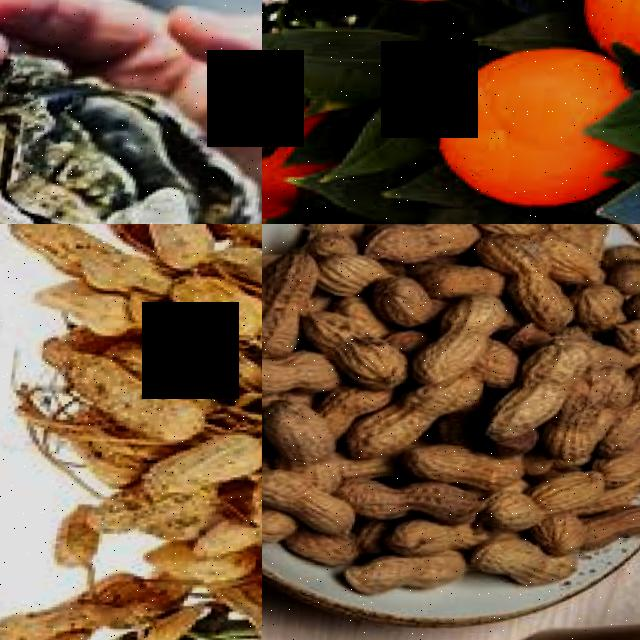orange: (439, 42, 640, 211)
peanuts: (85, 486, 218, 542), (148, 431, 262, 495), (262, 469, 367, 535), (262, 245, 322, 356), (346, 551, 472, 600), (262, 399, 343, 472), (331, 328, 417, 394), (366, 480, 486, 526), (172, 276, 262, 337), (410, 447, 530, 491), (41, 288, 136, 340), (342, 406, 430, 459), (362, 224, 475, 264), (505, 279, 582, 335), (522, 344, 594, 401), (473, 231, 553, 282), (435, 296, 505, 354), (487, 389, 557, 444), (262, 349, 339, 397), (136, 224, 216, 270), (370, 273, 433, 331), (536, 470, 614, 516), (483, 487, 557, 534), (475, 537, 555, 580), (572, 286, 628, 332), (228, 251, 262, 302), (210, 224, 262, 248), (622, 318, 640, 364)
